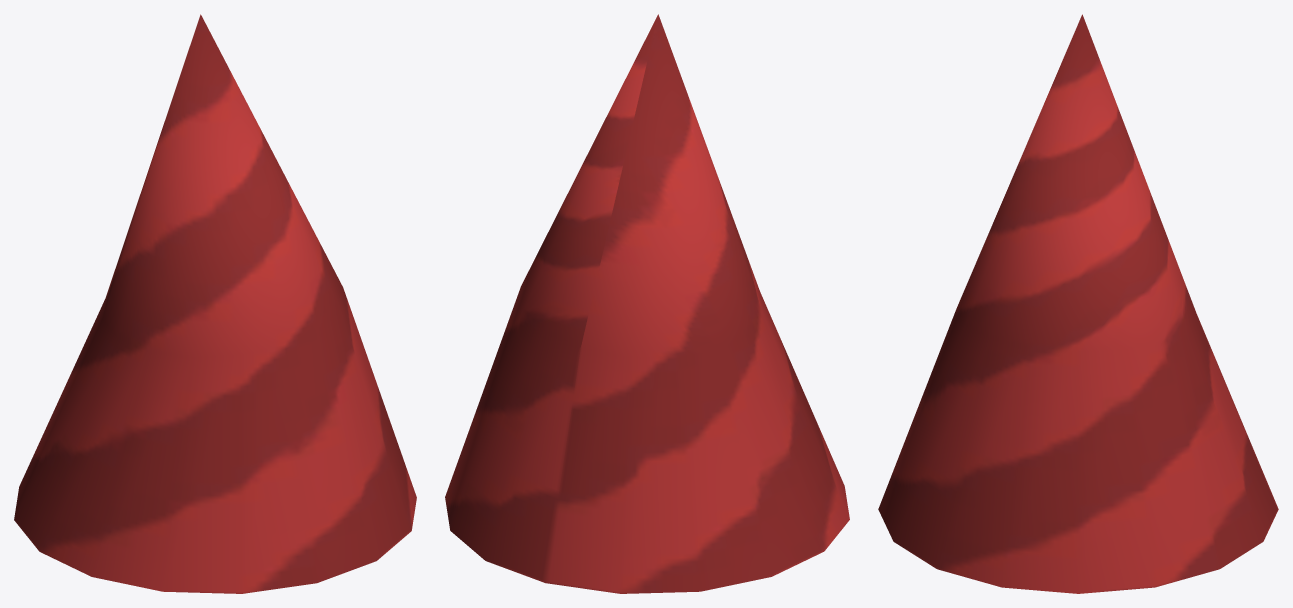
The model's file is bday_hat.glb.
3 renders of one model, left to right at view 1: azimuth 30°, elevation 25°; view 2: azimuth 150°, elevation 25°; view 3: azimuth 270°, elevation 25°, orthographic. The views are drawn at different scales.
Visible parts, largest first — view 1: bday_hat; view 2: bday_hat; view 3: bday_hat.
Part boxes in pixels (x1=…): bday_hat: x1=14, y1=14, x2=416, y2=593; bday_hat: x1=445, y1=14, x2=849, y2=593; bday_hat: x1=878, y1=14, x2=1278, y2=593.
Bounding box in the file's own units: 0.077 × 0.1038 × 0.077.
Materials: 1 (1 with a texture image).
